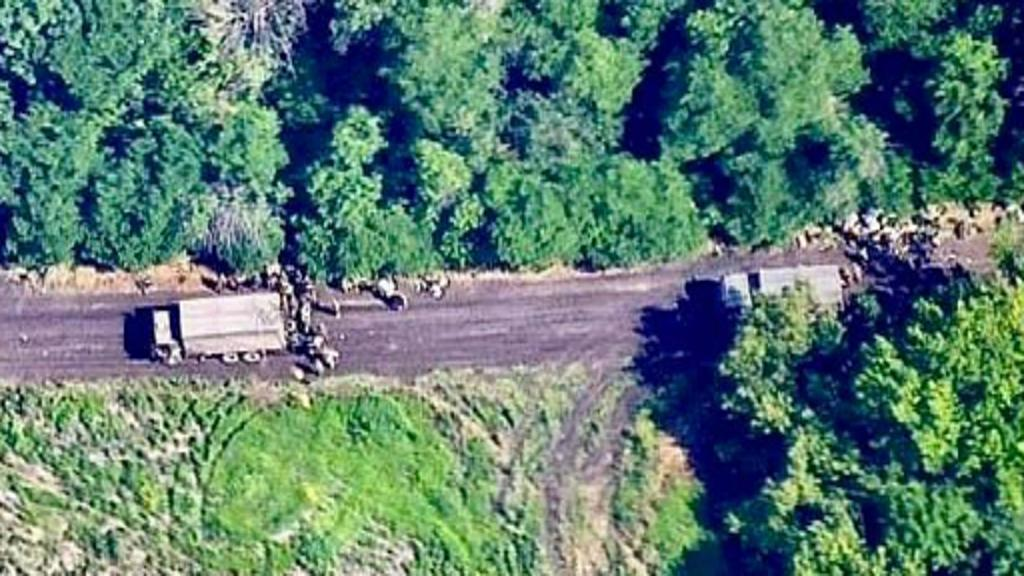TRUCK: (138, 293, 286, 369), (712, 265, 842, 321)
